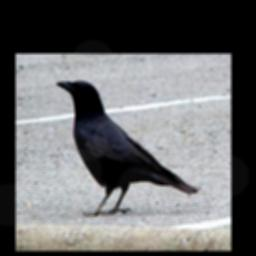Crow: (56, 79, 199, 216)
